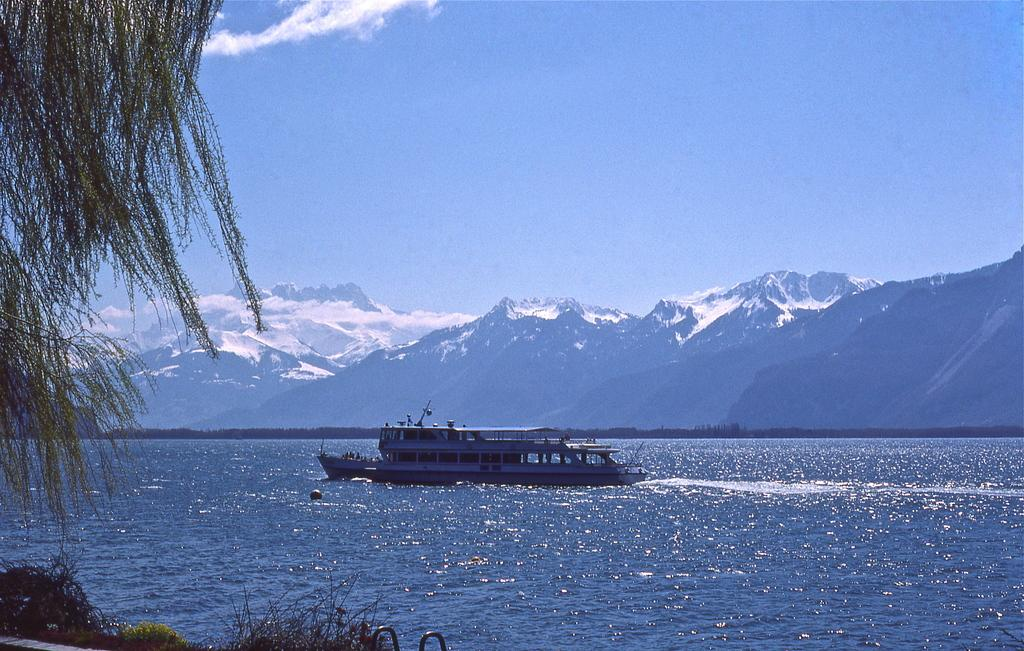PassengerShip: (315, 401, 643, 496)
